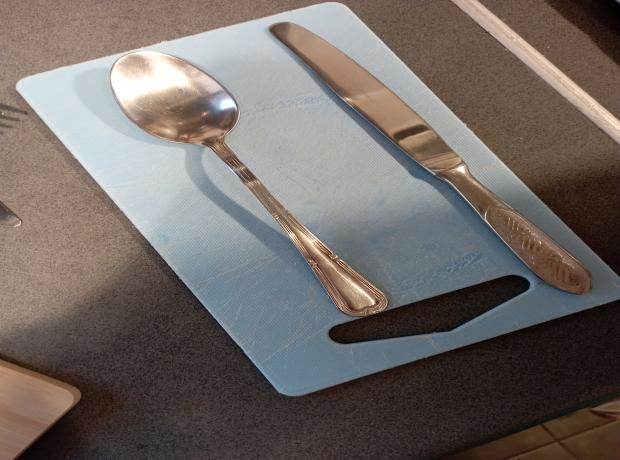metal: (268, 21, 595, 294), (109, 50, 392, 316)
